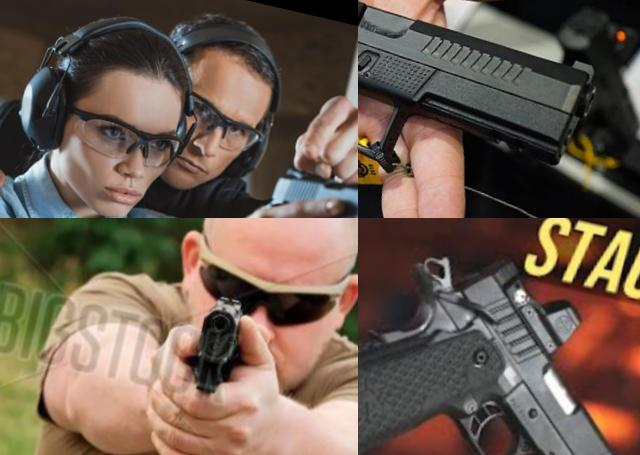handgun: (358, 218, 640, 455), (358, 0, 619, 218), (180, 288, 254, 415), (230, 146, 358, 218)
